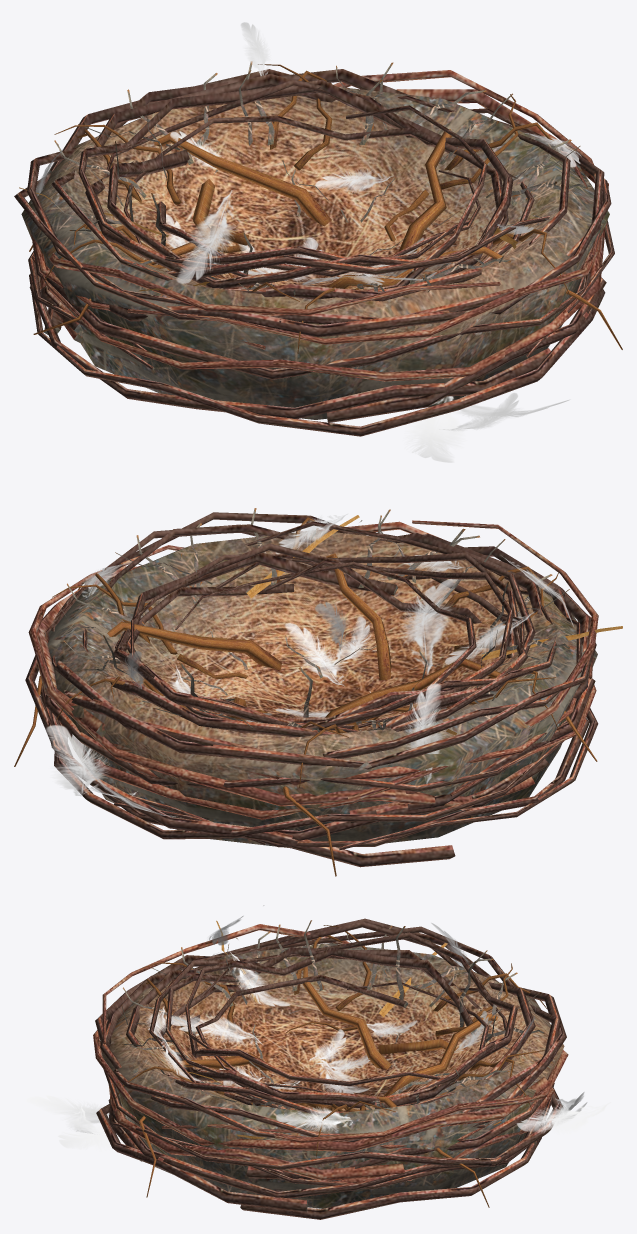
The picture shows the model from 3 angles, top to bottom: view 1: azimuth 30°, elevation 25°; view 2: azimuth 150°, elevation 25°; view 3: azimuth 270°, elevation 25°; orthographic projection. The views are drawn at different scales.
Parts seen in each view (by area): view 1: Sphere001_Gnezdo_V2_0, Sphere001_Peria_0; view 2: Sphere001_Gnezdo_V2_0, Sphere001_Peria_0; view 3: Sphere001_Gnezdo_V2_0, Sphere001_Peria_0.
Part boxes in pixels (left/top/right/bottom): Sphere001_Gnezdo_V2_0: left=14, top=61, right=622, bottom=436; Sphere001_Peria_0: left=31, top=22, right=569, bottom=462; Sphere001_Gnezdo_V2_0: left=14, top=508, right=622, bottom=876; Sphere001_Peria_0: left=46, top=514, right=580, bottom=817; Sphere001_Gnezdo_V2_0: left=93, top=918, right=568, bottom=1219; Sphere001_Peria_0: left=26, top=905, right=611, bottom=1151.
Bounding box in the file's own units: 0.0345 × 0.0155 × 0.0414.
Materials: 2 (2 with a texture image).
